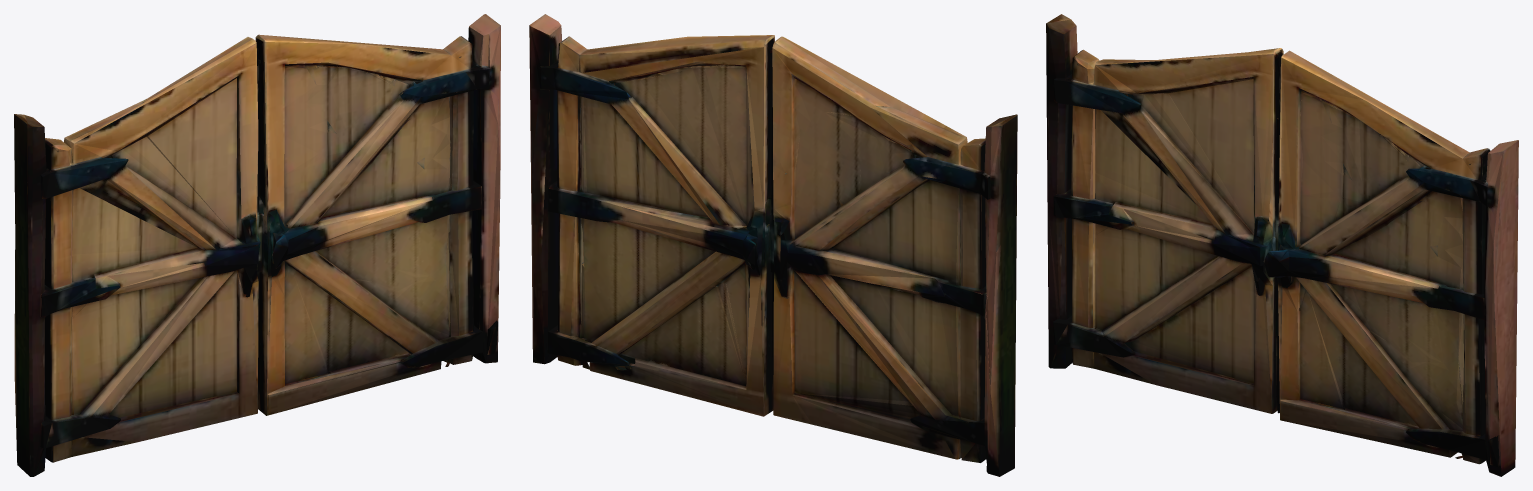
The model's file is village_rail_fence_gate_01.glb.
3 views of the same model, side by side, from view 1: azimuth 30°, elevation 25°; view 2: azimuth 150°, elevation 25°; view 3: azimuth 330°, elevation 25° (orthographic). The views are drawn at different scales.
Visible parts, largest first — view 1: geometry_0; view 2: geometry_0; view 3: geometry_0.
Part boxes in pixels (x1,y1,x2,y2): geometry_0: [14, 14, 500, 476]; geometry_0: [529, 14, 1017, 476]; geometry_0: [1046, 14, 1518, 476].
Bounding box in the file's own units: 0.998 × 0.7634 × 0.1259.
Materials: 1 (1 with a texture image).
